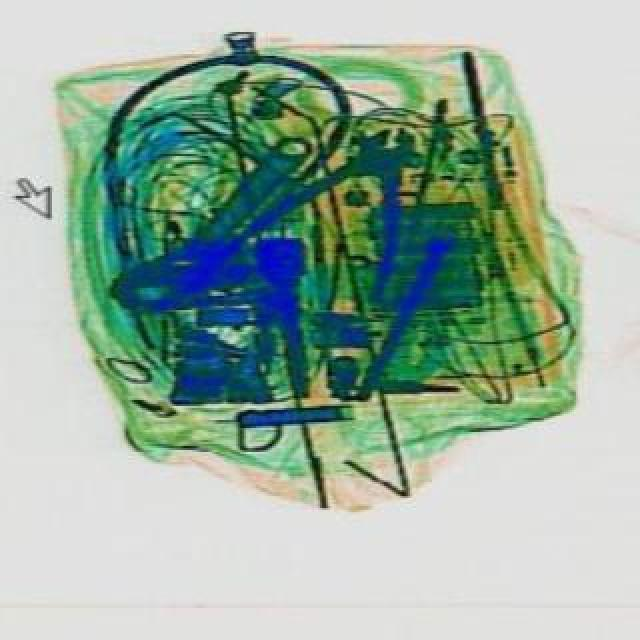scissors: (110, 120, 338, 338)
wrench: (250, 94, 472, 308)
